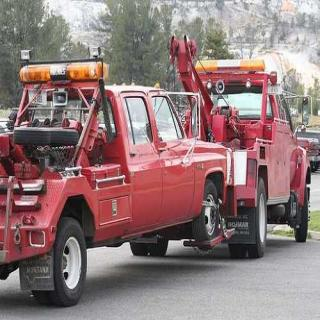Towing_truck: (0, 32, 312, 308)
